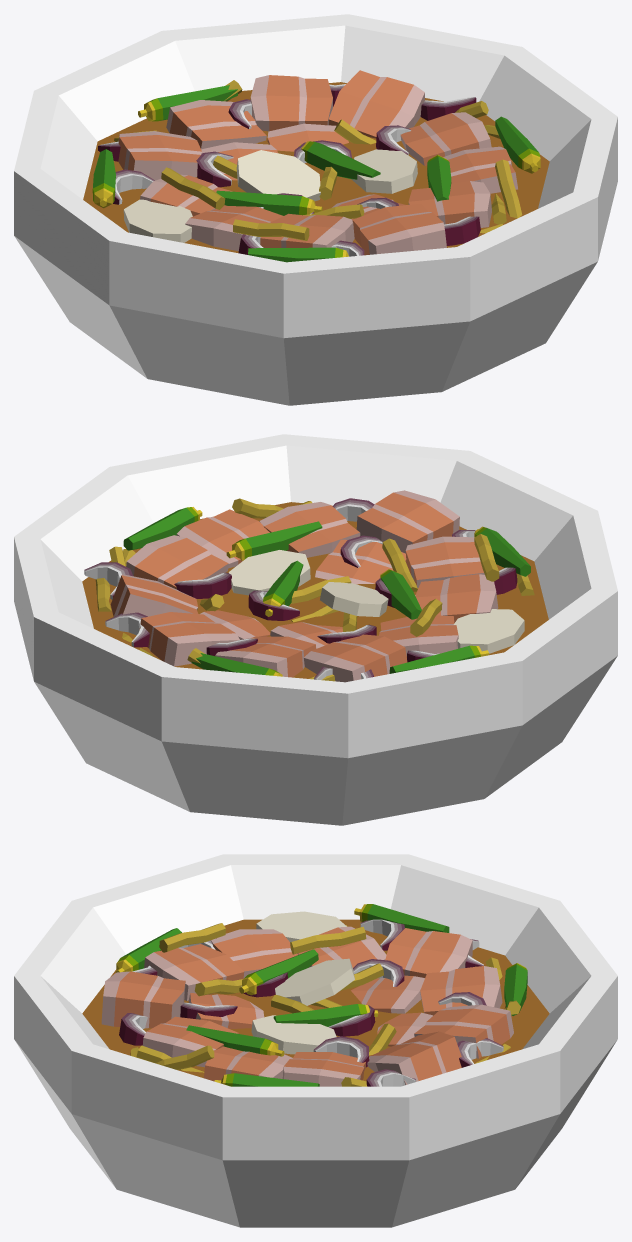
The model's file is FINAL_Sinigang sa Sampalok.fbx.
The picture shows the model from 3 angles, top to bottom: view 1: azimuth 30°, elevation 25°; view 2: azimuth 150°, elevation 25°; view 3: azimuth 270°, elevation 25°; orthographic projection. The views are drawn at different scales.
Visible parts, largest first — view 1: Sinigang sa Sampalok; view 2: Sinigang sa Sampalok; view 3: Sinigang sa Sampalok.
Part boxes in pixels (x1=…): Sinigang sa Sampalok: x1=14, y1=14, x2=617, y2=405; Sinigang sa Sampalok: x1=14, y1=434, x2=617, y2=825; Sinigang sa Sampalok: x1=14, y1=854, x2=617, y2=1227.
Bounding box in the file's own units: 105 × 38.29 × 110.
